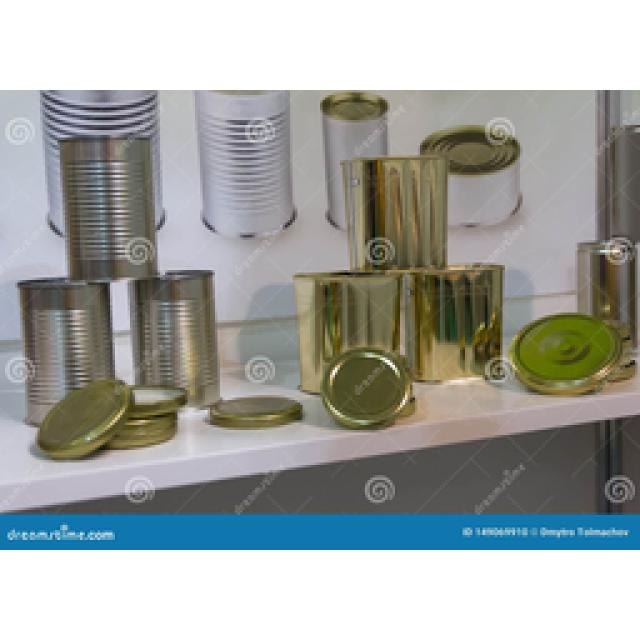alumunium: (295, 92, 635, 428), (18, 90, 300, 458), (195, 90, 295, 238)
